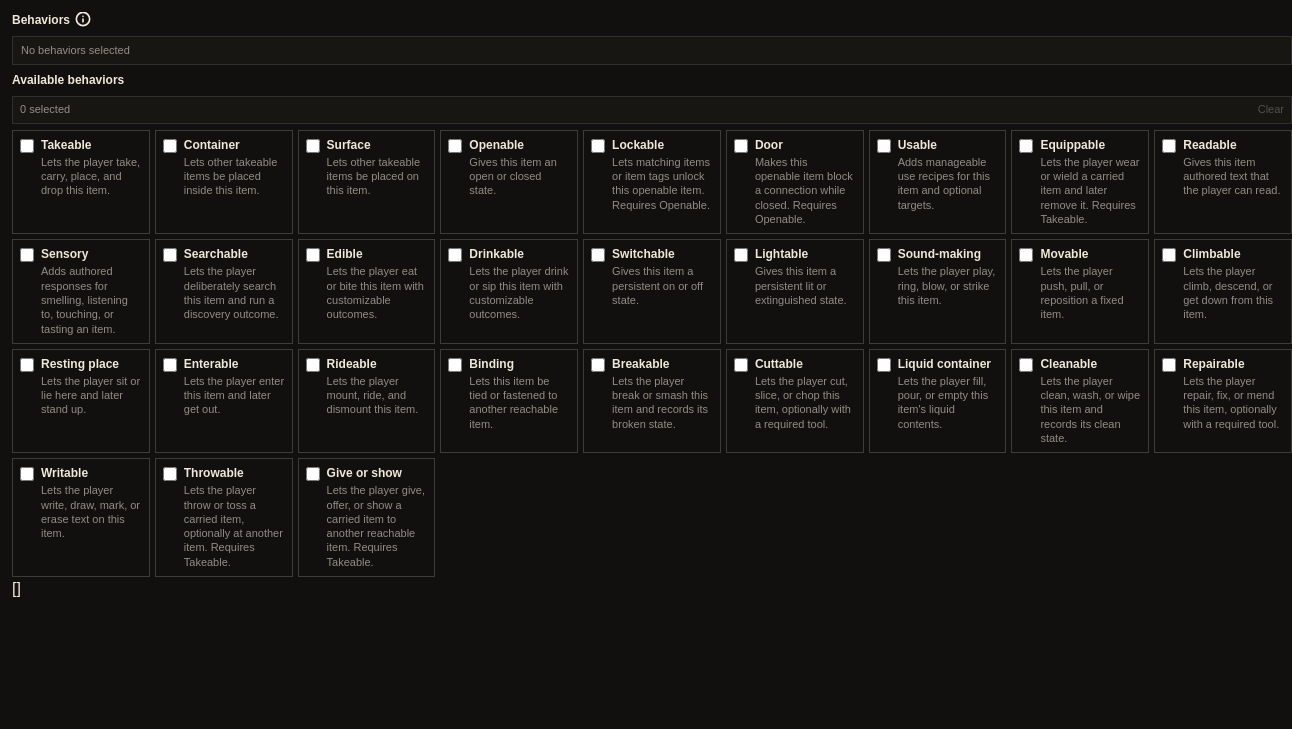
Test: ArrayEditor multi-select arrays › adds required behaviors and exposes lock configuration
Click the checkbox labelled "Lockable " at [598, 146], box top-left (591, 139), bottom-right (605, 153)
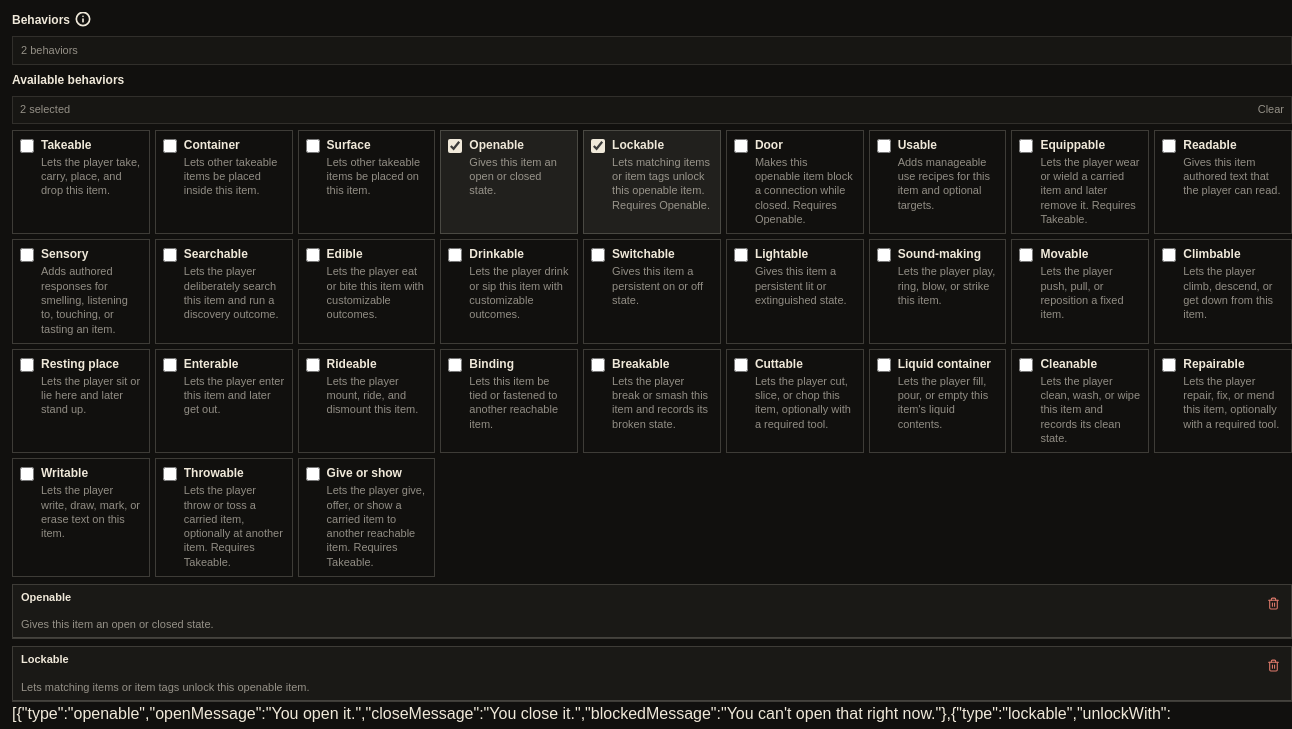
expect the checkbox labelled "Lockable " is checked: met, box top-left (591, 139), bottom-right (605, 153)
expect the checkbox labelled "Openable Gives this item an open or closed state." is checked: met, box top-left (448, 139), bottom-right (462, 153)
